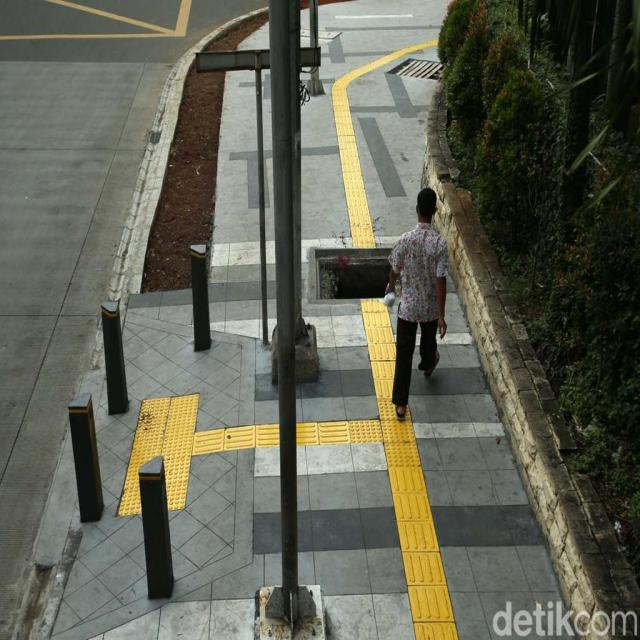pejalan-kaki: (385, 160, 454, 437)
